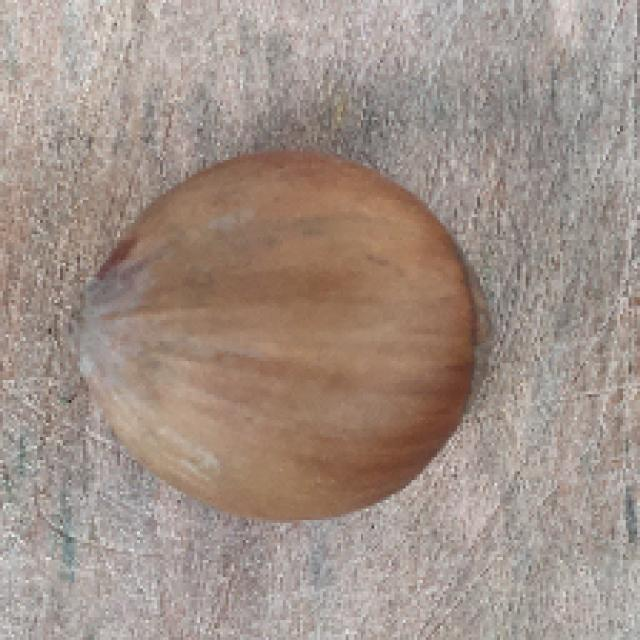damagedHazelnut: (65, 144, 494, 523)
